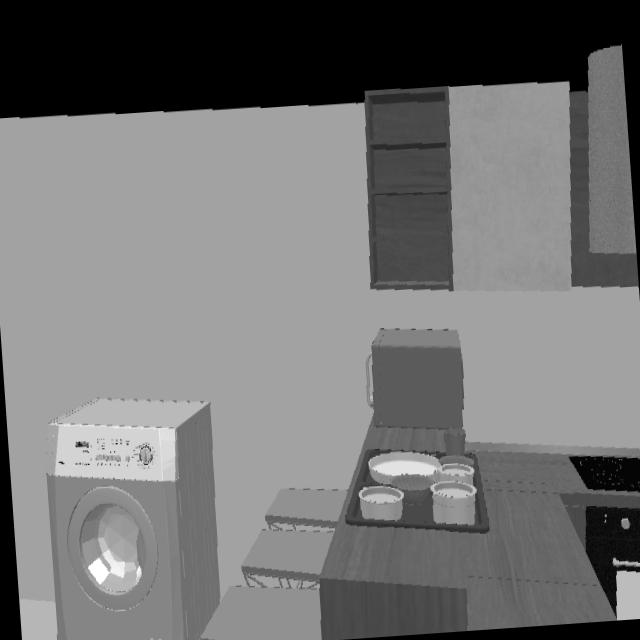countertop: (319, 451, 640, 640)
microwave: (366, 329, 465, 449)
oven: (585, 501, 640, 620)
shelf: (365, 88, 456, 290)
stove: (571, 457, 640, 498)
